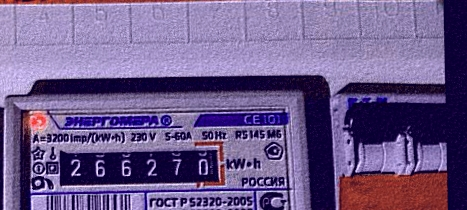0: (196, 156, 210, 177)
2: (69, 157, 82, 178), (146, 158, 159, 178)
6: (94, 158, 106, 179), (120, 158, 133, 177)
7: (172, 157, 182, 176)
screen: (47, 137, 231, 196)
